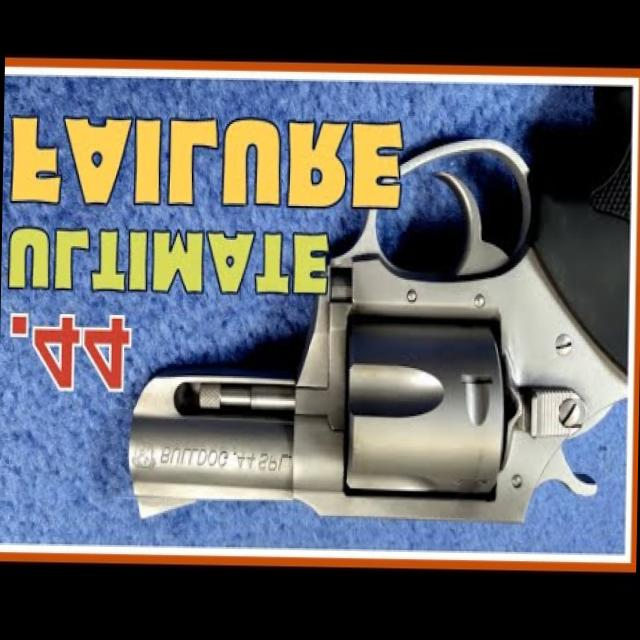Gun: (110, 79, 636, 538)
